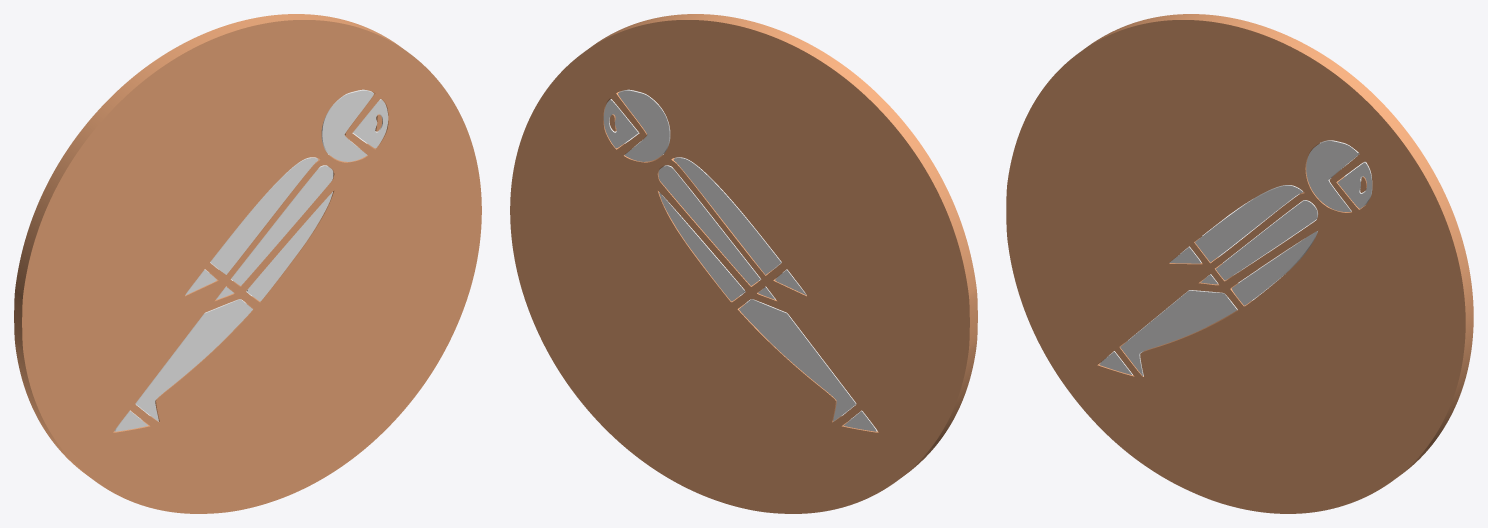
3 views of the same model, side by side, from view 1: azimuth 30°, elevation 25°; view 2: azimuth 150°, elevation 25°; view 3: azimuth 330°, elevation 25° (orthographic).
Parts seen in each view (by area): view 1: Node1, Node2, Node3, Node4, Node5, Node6, Node7; view 2: Node1, Node2, Node3, Node4, Node5, Node6, Node7; view 3: Node1, Node2, Node3, Node4, Node5, Node6, Node7.
Part boxes in pixels (<box>): Node1: <box>14,14,481,513</box>; Node2: <box>135,299,252,421</box>; Node3: <box>210,157,318,274</box>; Node4: <box>231,165,333,285</box>; Node5: <box>321,89,373,161</box>; Node6: <box>246,192,332,301</box>; Node7: <box>353,99,388,148</box>; Node1: <box>510,14,977,513</box>; Node2: <box>739,299,856,421</box>; Node3: <box>673,157,781,274</box>; Node4: <box>658,165,760,285</box>; Node5: <box>618,89,670,161</box>; Node6: <box>659,192,745,301</box>; Node7: <box>603,99,638,148</box>; Node1: <box>1006,14,1473,513</box>; Node2: <box>1120,290,1237,376</box>; Node3: <box>1195,185,1303,262</box>; Node4: <box>1215,200,1317,280</box>; Node5: <box>1306,140,1359,211</box>; Node6: <box>1232,231,1317,305</box>; Node7: <box>1337,161,1372,208</box>.
Bounding box in the file's own units: 166 × 166 × 5.
